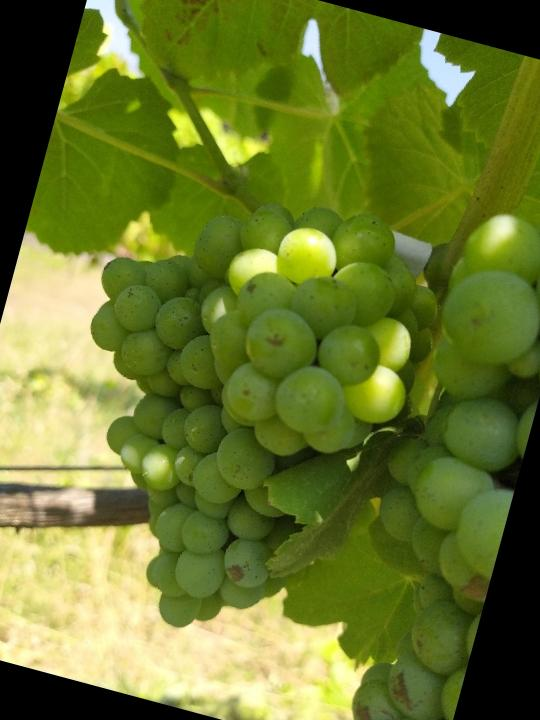grape: (18, 148, 464, 674)
